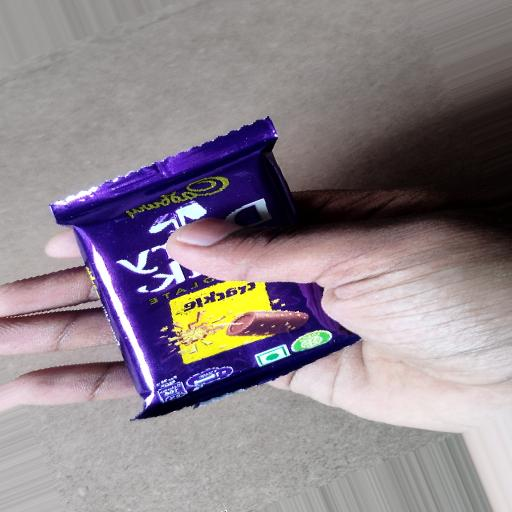Cadbury Dairy Milk Crackle: (33, 116, 373, 437)
